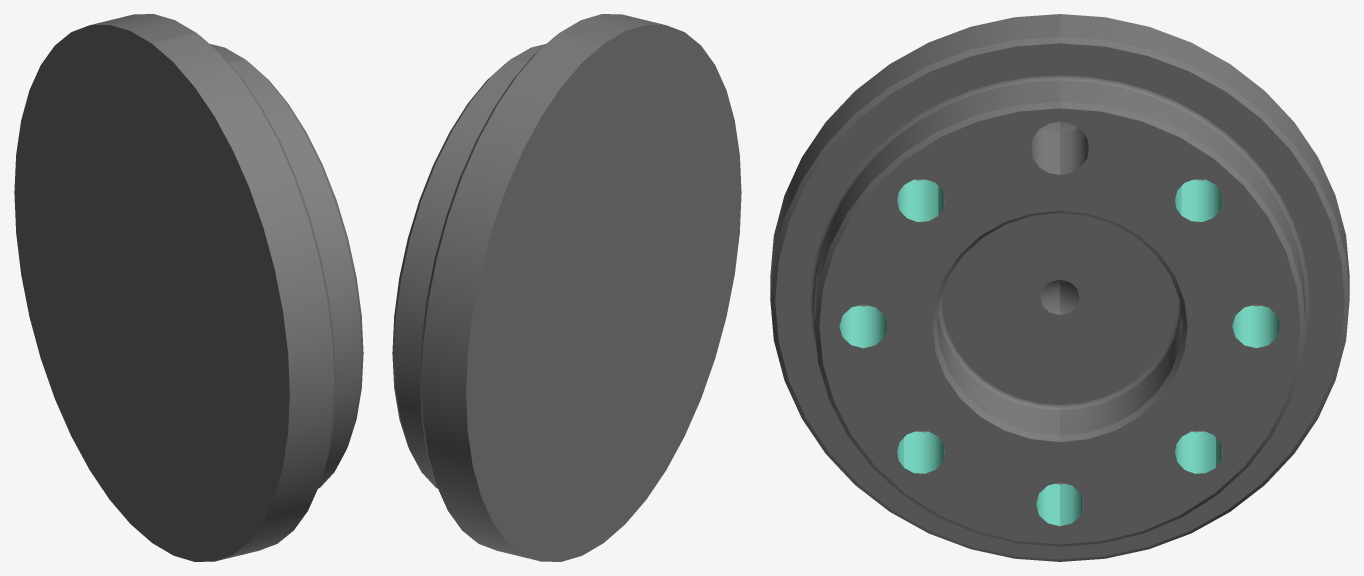
3 views of the same model, side by side, from view 1: azimuth 30°, elevation 25°; view 2: azimuth 150°, elevation 25°; view 3: azimuth 270°, elevation 25° (orthographic). The views are drawn at different scales.
Parts seen in each view (by area): view 1: Mesh_0; view 2: Mesh_0; view 3: Mesh_0.
Part boxes in pixels (x1,y1,x2,y2): Mesh_0: (14,14,363,561); Mesh_0: (392,14,741,561); Mesh_0: (770,14,1349,561).
Bounding box in the file's own units: 0.012 × 0.059 × 0.059.
